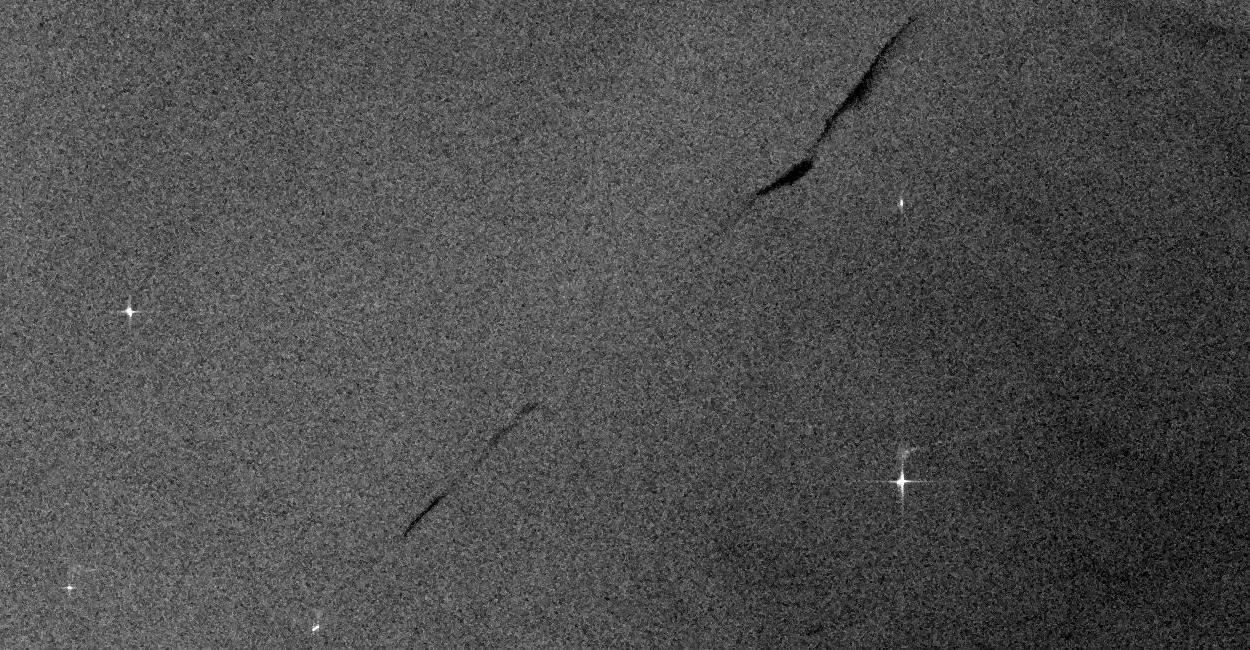Oil Spill: (814, 14, 921, 144), (738, 144, 822, 216), (480, 399, 540, 456), (400, 490, 450, 540)
